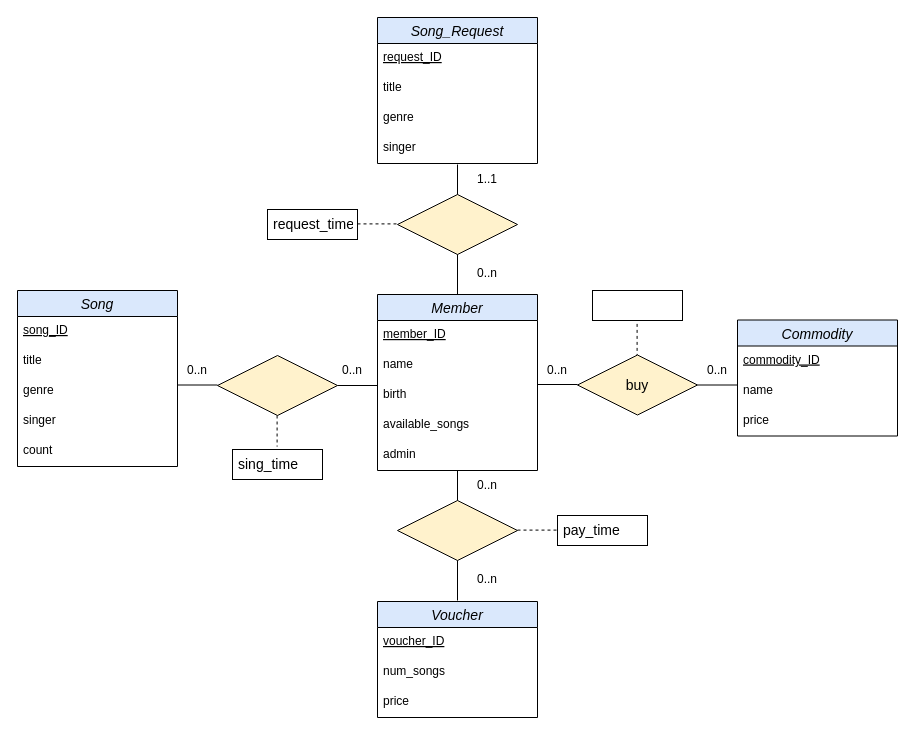
Image size: 915x738. Some labels were removed from this diagram. Each missing label, with the centre of its shape:
paid: the point at 457,530
quantity: the point at 637,305
request: the point at 457,224
sing: the point at 277,385
